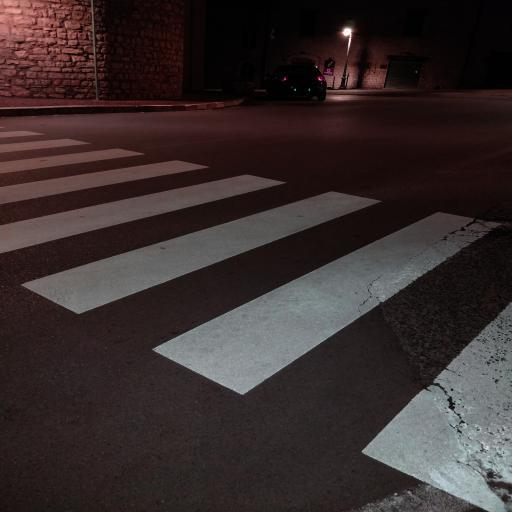crosswalk: (18, 184, 511, 406)
